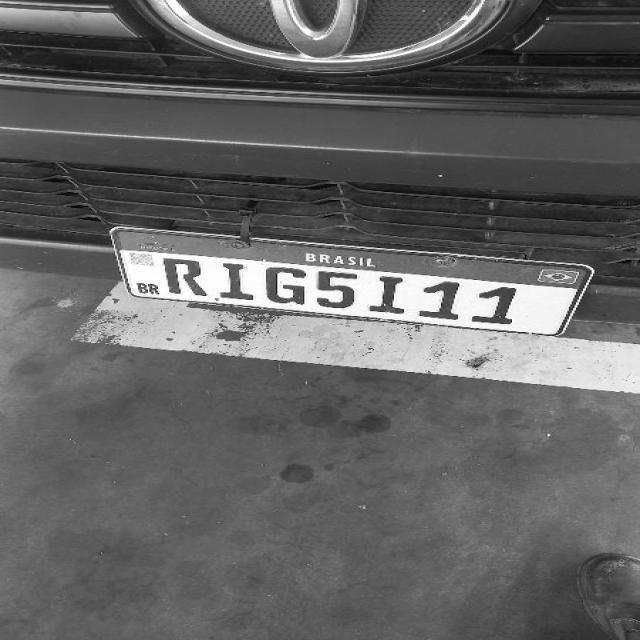placa_mercosul: (118, 222, 600, 339)
